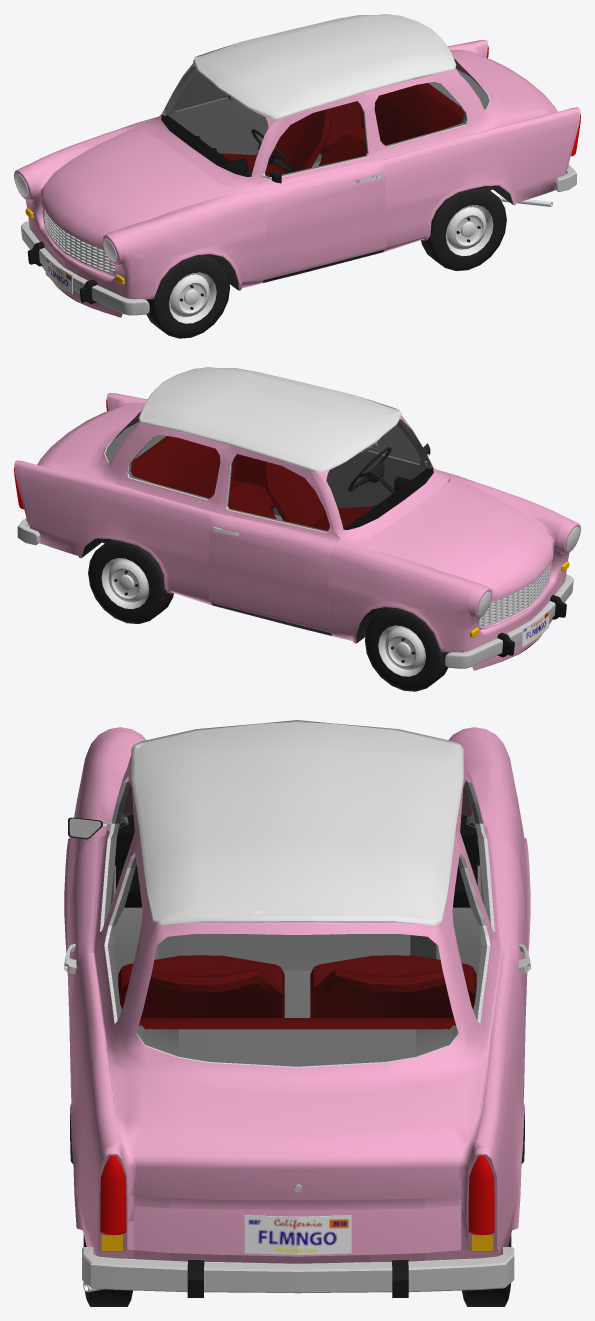
File: trabant-601.glb
3 views of the same model, one above another, from view 1: azimuth 30°, elevation 25°; view 2: azimuth 150°, elevation 25°; view 3: azimuth 270°, elevation 25° (orthographic). The views are drawn at different scales.
Visible parts, largest first — view 1: Object_7, Object_6, Object_8, Object_3, Object_10, Object_2, Object_4, Object_12; view 2: Object_7, Object_6, Object_8, Object_3, Object_10, Object_2, Object_4, Object_12; view 3: Object_6, Object_7, Object_3, Object_10, Object_8, Object_12.
Boxes of the visible parts, <box> form: Object_7: <box>14,40,576,323</box>; Object_6: <box>26,14,580,321</box>; Object_8: <box>146,66,506,338</box>; Object_3: <box>161,58,489,178</box>; Object_10: <box>21,164,576,315</box>; Object_2: <box>44,210,115,274</box>; Object_4: <box>191,147,250,290</box>; Object_12: <box>15,46,580,284</box>; Object_7: <box>18,393,580,676</box>; Object_6: <box>14,367,568,674</box>; Object_8: <box>88,419,449,691</box>; Object_3: <box>105,411,433,531</box>; Object_10: <box>17,517,573,668</box>; Object_2: <box>479,563,550,627</box>; Object_4: <box>356,468,433,643</box>; Object_12: <box>14,399,579,637</box>; Object_6: <box>64,720,530,1292</box>; Object_7: <box>64,727,530,1255</box>; Object_3: <box>104,780,490,1066</box>; Object_10: <box>82,1247,514,1298</box>; Object_8: <box>67,761,527,1306</box>; Object_12: <box>100,1155,494,1250</box>.
Size of the model in its own units: 30.49 by 12.41 by 12.72.
6 materials, 5 textured.
